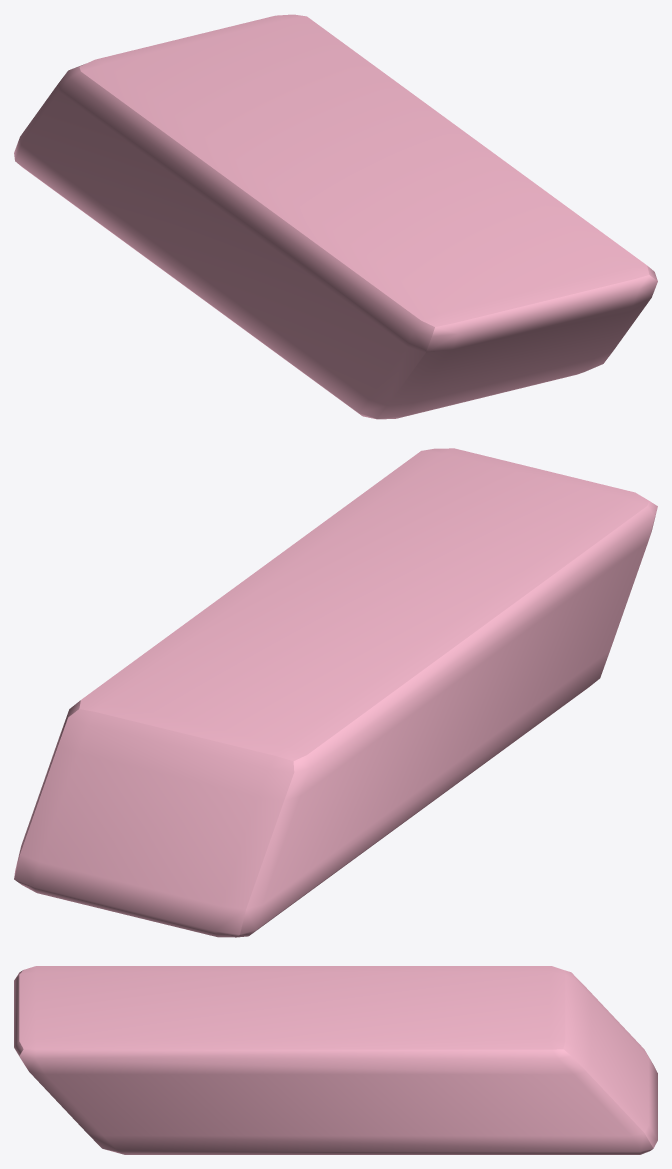
Rendered from 지우개.fbx.
3 renders of one model, top to bottom at view 1: azimuth 30°, elevation 25°; view 2: azimuth 150°, elevation 25°; view 3: azimuth 270°, elevation 25°, orthographic. The views are drawn at different scales.
Visible parts, largest first — view 1: eraser; view 2: eraser; view 3: eraser.
Part boxes in pixels (x1,y1,x2,y2): eraser: (14, 14, 657, 419); eraser: (14, 448, 657, 937); eraser: (14, 966, 657, 1154).
Bounding box in the file's own units: 254 × 145 × 773.
